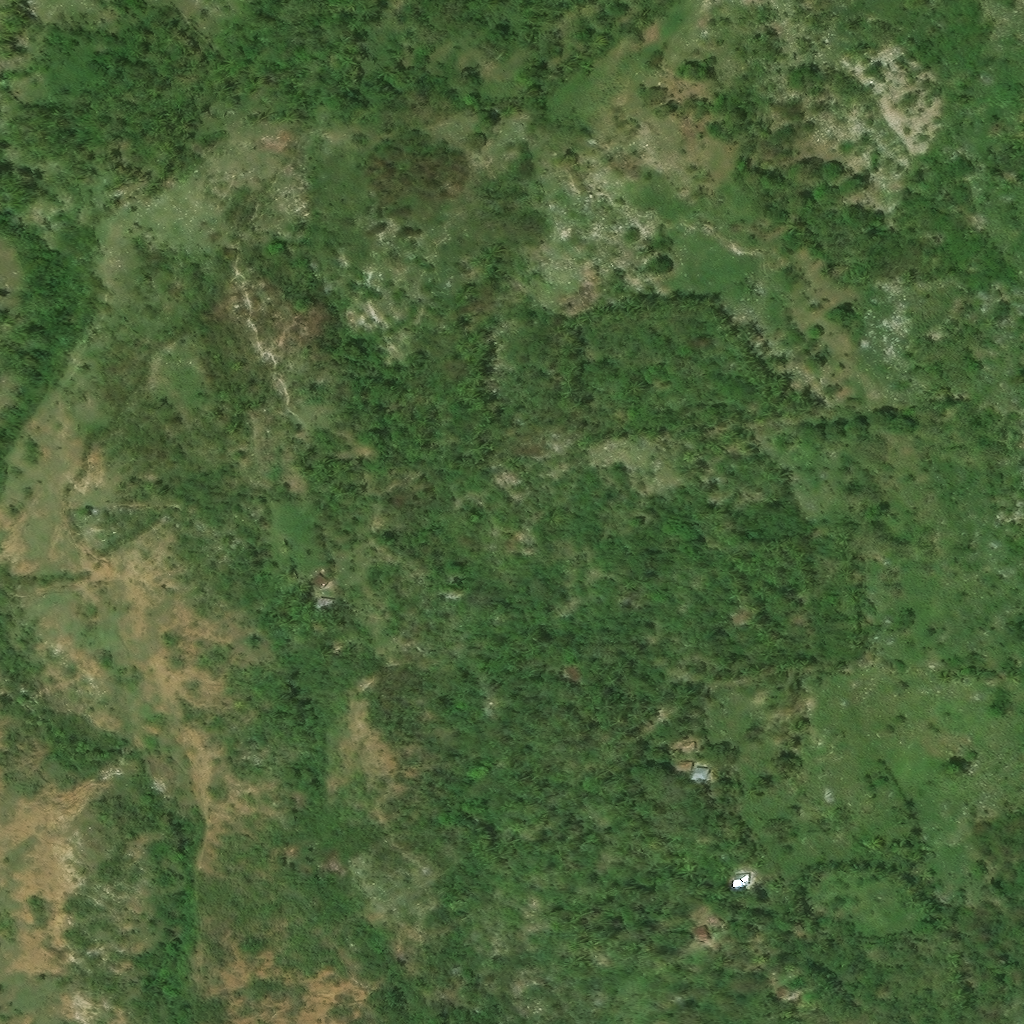destroyed: (707, 912, 726, 931)
minor_damage: (324, 580, 343, 599)
no_damage: (696, 924, 713, 946), (788, 987, 805, 1007), (575, 670, 592, 687), (701, 771, 718, 785), (685, 765, 702, 777)
unclassified: (816, 739, 835, 757), (860, 797, 876, 812), (333, 607, 348, 621), (761, 766, 776, 778), (718, 947, 729, 958)
